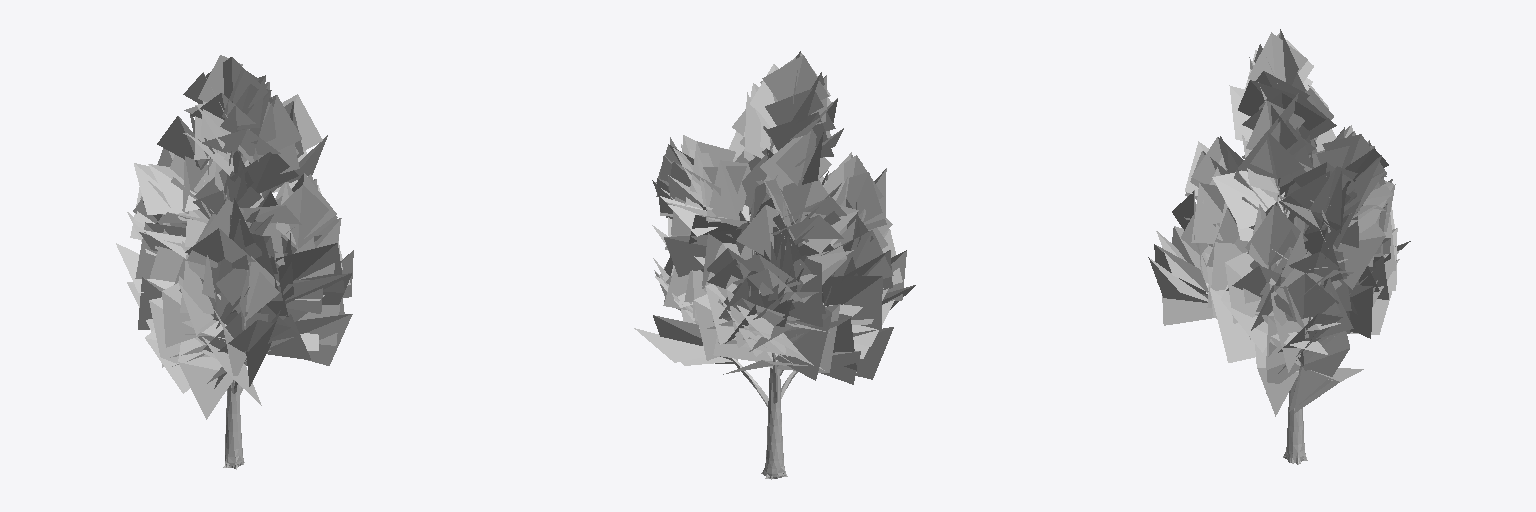
The model's file is tree.obj.
3 views of the same model, side by side, from view 1: azimuth 30°, elevation 25°; view 2: azimuth 150°, elevation 25°; view 3: azimuth 270°, elevation 25° (orthographic).
Parts seen in each view (by area): view 1: Object_DB2X2_001.jpg, Object_bark_0005.jpg; view 2: Object_DB2X2_001.jpg, Object_bark_0005.jpg; view 3: Object_DB2X2_001.jpg, Object_bark_0005.jpg.
Part boxes in pixels (x1,y1,x2,y2): Object_DB2X2_001.jpg: (116,55,353,419); Object_bark_0005.jpg: (200,168,297,469); Object_DB2X2_001.jpg: (634,51,915,384); Object_bark_0005.jpg: (730,137,799,479); Object_DB2X2_001.jpg: (1148,29,1410,416); Object_bark_0005.jpg: (1200,179,1324,464).
Bounding box in the file's own units: 1.3 × 2.5 × 1.42.